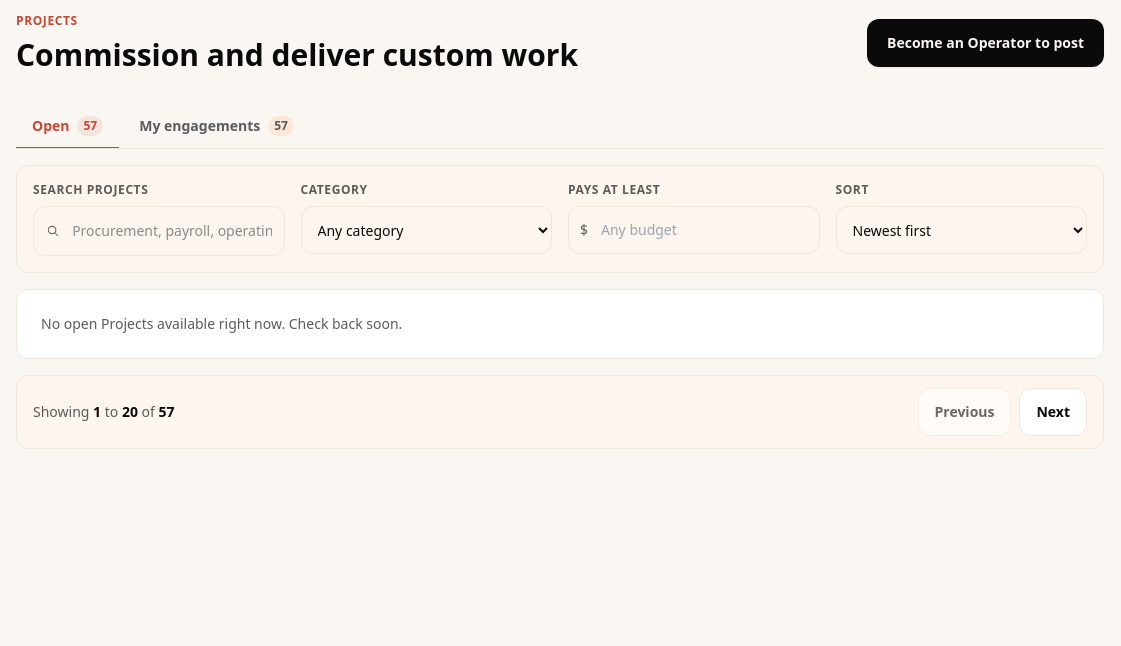
Test: ProjectListShell › restarts paging when a filter narrows the result set
Click the button "Next" at {"x": 1053, "y": 412}, box [1020, 388, 1087, 436]
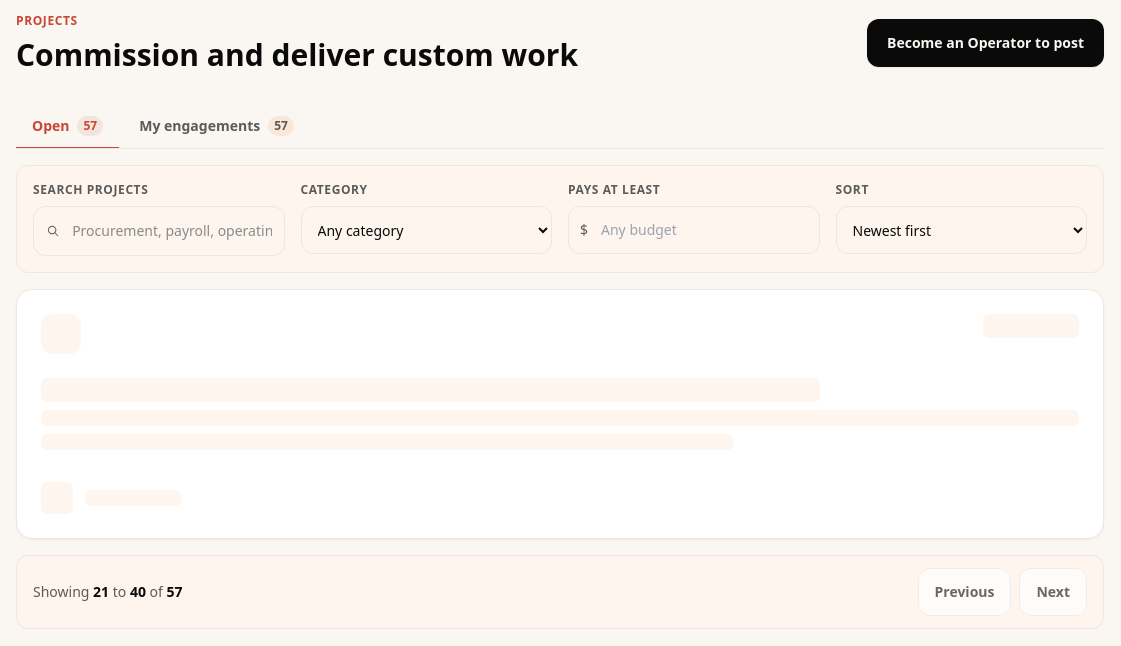
Now the navigation bar named "project list pages" shows "Showing 21 to 40 of 57", box [16, 555, 1104, 629]
Select "Compliance" in the dropdown labelled "Category" at {"x": 426, "y": 230}, box [300, 206, 552, 254]
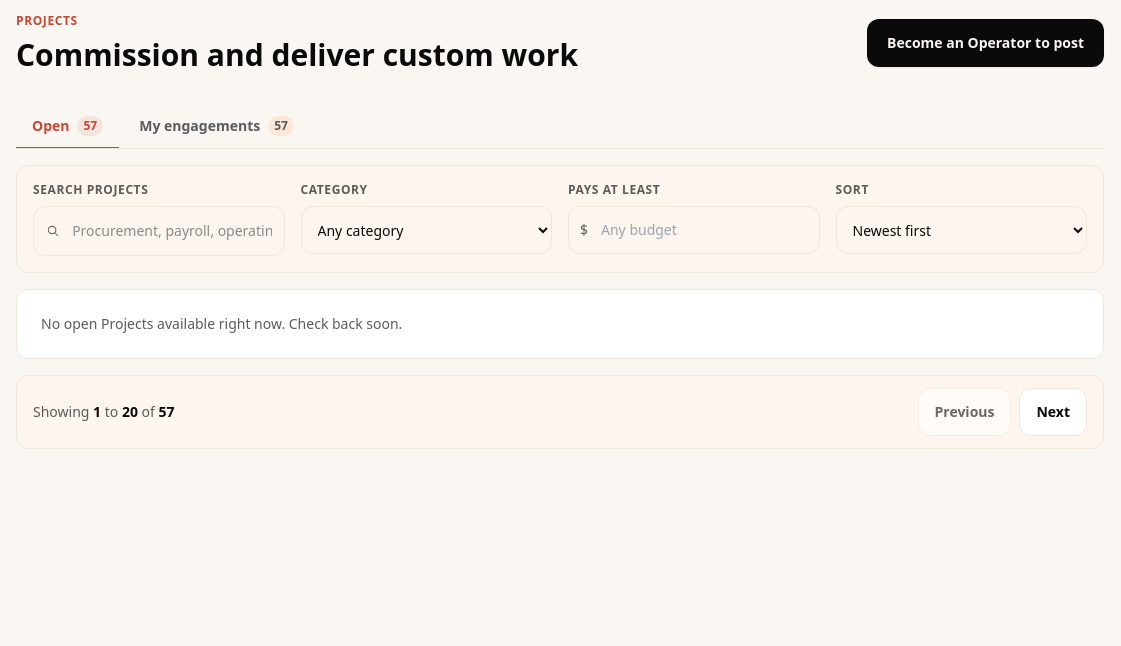
Now the navigation bar named "project list pages" shows "Showing 1 to 20 of 57", box [16, 375, 1104, 449]
